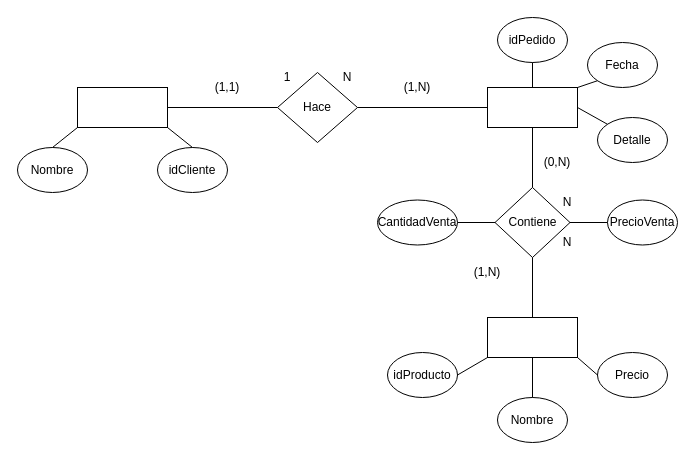
Some shapes in this 695 by 460 pixel diagram are drawn without their labels. The centre of each missing label's shape, as x and y in pixels:
"Cliente" goes at point (122, 107).
"Producto" goes at point (532, 337).
"Venta" goes at point (532, 107).
